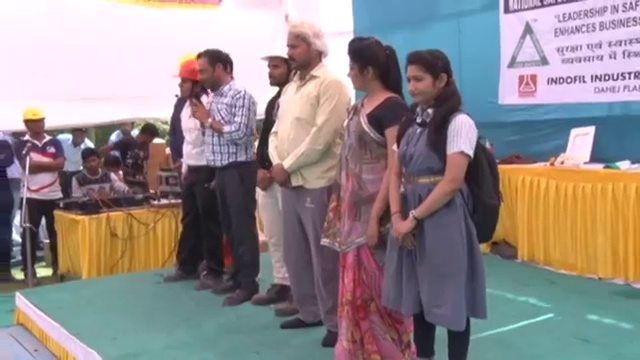helmet: (168, 56, 209, 81), (258, 36, 291, 64), (20, 107, 48, 124)
helmet_off: (400, 46, 458, 120), (341, 35, 398, 102), (279, 21, 327, 73), (195, 48, 232, 92), (79, 146, 100, 177), (133, 123, 158, 147), (71, 128, 88, 146)
helmet_on: (169, 56, 209, 105), (257, 40, 291, 91), (19, 106, 50, 141)
person: (382, 39, 502, 360), (266, 7, 354, 347), (328, 38, 415, 359), (189, 48, 257, 306), (159, 56, 221, 290), (251, 39, 300, 318), (14, 105, 66, 278), (71, 146, 128, 203), (109, 123, 158, 189), (56, 129, 95, 200), (0, 139, 14, 284)
